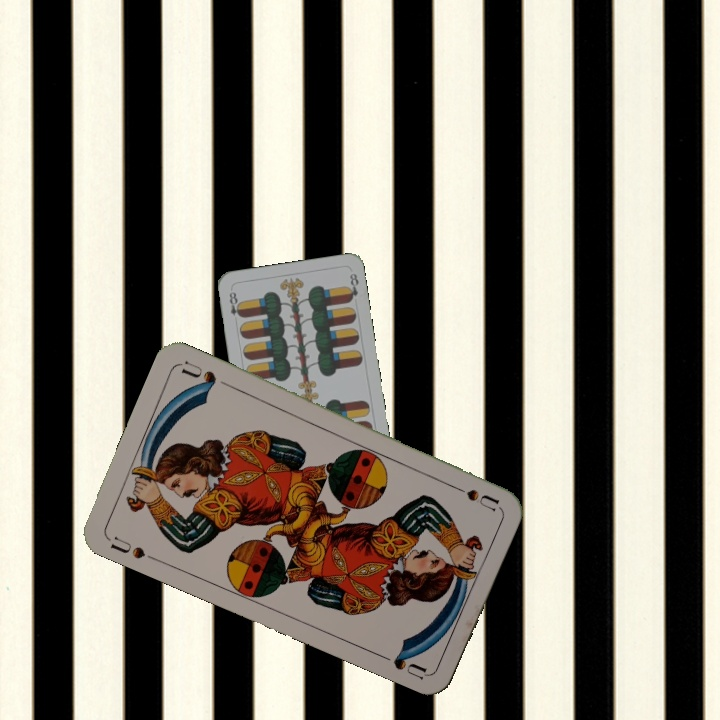E8: (225, 288, 245, 320)
SU: (443, 479, 501, 513), (106, 532, 148, 562)
